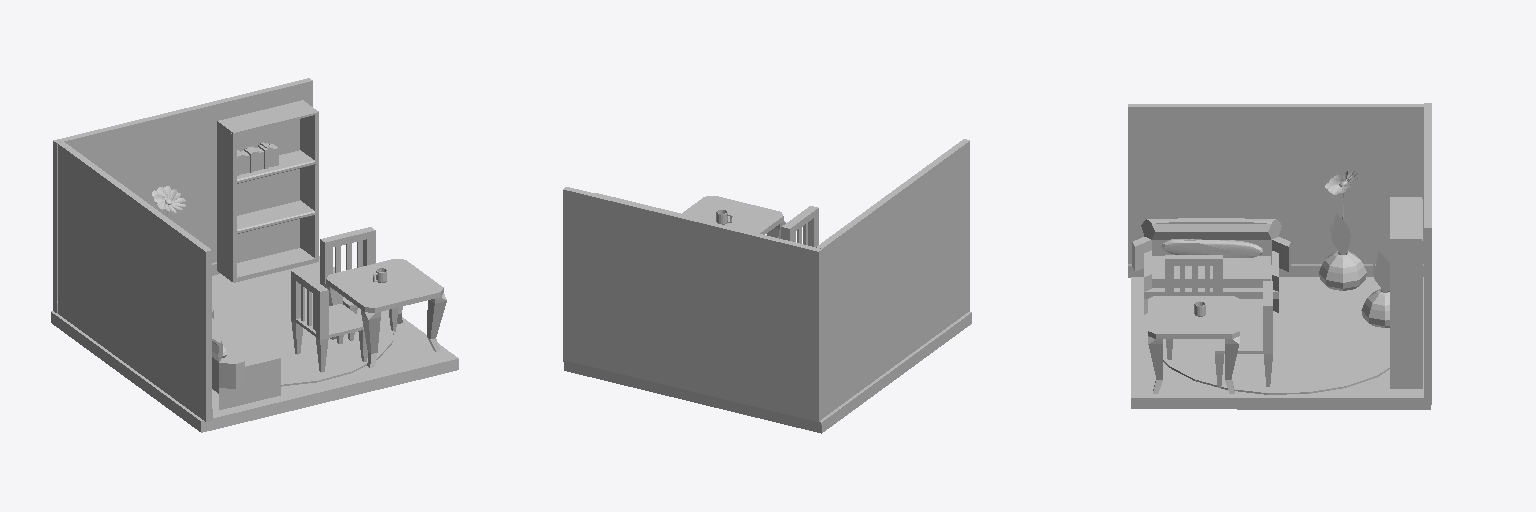
The model's file is RoomScene拷貝.obj.
3 views of the same model, side by side, from view 1: azimuth 30°, elevation 25°; view 2: azimuth 150°, elevation 25°; view 3: azimuth 270°, elevation 25° (orthographic).
Parts seen in each view (by area): view 1: Wall2, BookShelf:WallsLyr2, Wall1, FloorMesh, pCylinder1, Table:TableMesh, Chair1:ChairMesh, Sofa, Chair:ChairMesh, pCube2, Unit_6_Potted_Plant_Flower:Flower; view 2: Wall1, Wall2, FloorMesh, Table:TableMesh, Chair1:ChairMesh; view 3: Wall2, pCylinder1, FloorMesh, BookShelf:WallsLyr2, Sofa, Table:TableMesh, Wall1, pCube2, Unit_6_Potted_Plant_Flower:pSphere1, Chair:ChairMesh, Chair1:ChairMesh, pSphere1 (+1 smaller).
Part boxes in pixels (bbox=[...]): Wall2: bbox=[58, 142, 212, 421]; BookShelf:WallsLyr2: bbox=[217, 100, 318, 282]; Wall1: bbox=[53, 78, 312, 313]; FloorMesh: bbox=[51, 256, 458, 432]; pCylinder1: bbox=[212, 276, 393, 386]; Table:TableMesh: bbox=[324, 259, 446, 367]; Chair1:ChairMesh: bbox=[291, 269, 367, 372]; Sofa: bbox=[212, 309, 280, 409]; Chair:ChairMesh: bbox=[320, 227, 398, 340]; pCube2: bbox=[212, 318, 265, 362]; Unit_6_Potted_Plant_Flower:Flower: bbox=[152, 186, 185, 216]; Wall1: bbox=[563, 187, 822, 421]; Wall2: bbox=[816, 139, 969, 417]; FloorMesh: bbox=[563, 312, 971, 433]; Table:TableMesh: bbox=[681, 196, 785, 238]; Chair1:ChairMesh: bbox=[781, 206, 818, 246]; Wall2: bbox=[1128, 104, 1423, 277]; pCylinder1: bbox=[1163, 284, 1389, 394]; FloorMesh: bbox=[1131, 277, 1431, 409]; BookShelf:WallsLyr2: bbox=[1390, 197, 1422, 388]; Sofa: bbox=[1132, 218, 1290, 314]; Table:TableMesh: bbox=[1148, 296, 1239, 393]; Wall1: bbox=[1424, 103, 1431, 398]; pCube2: bbox=[1152, 256, 1270, 287]; Unit_6_Potted_Plant_Flower:pSphere1: bbox=[1319, 213, 1366, 290]; Chair:ChairMesh: bbox=[1215, 281, 1272, 387]; Chair1:ChairMesh: bbox=[1165, 255, 1222, 359]; pSphere1: bbox=[1161, 239, 1262, 257].
Bounding box in the file's own units: 23.93 × 16.04 × 24.35.